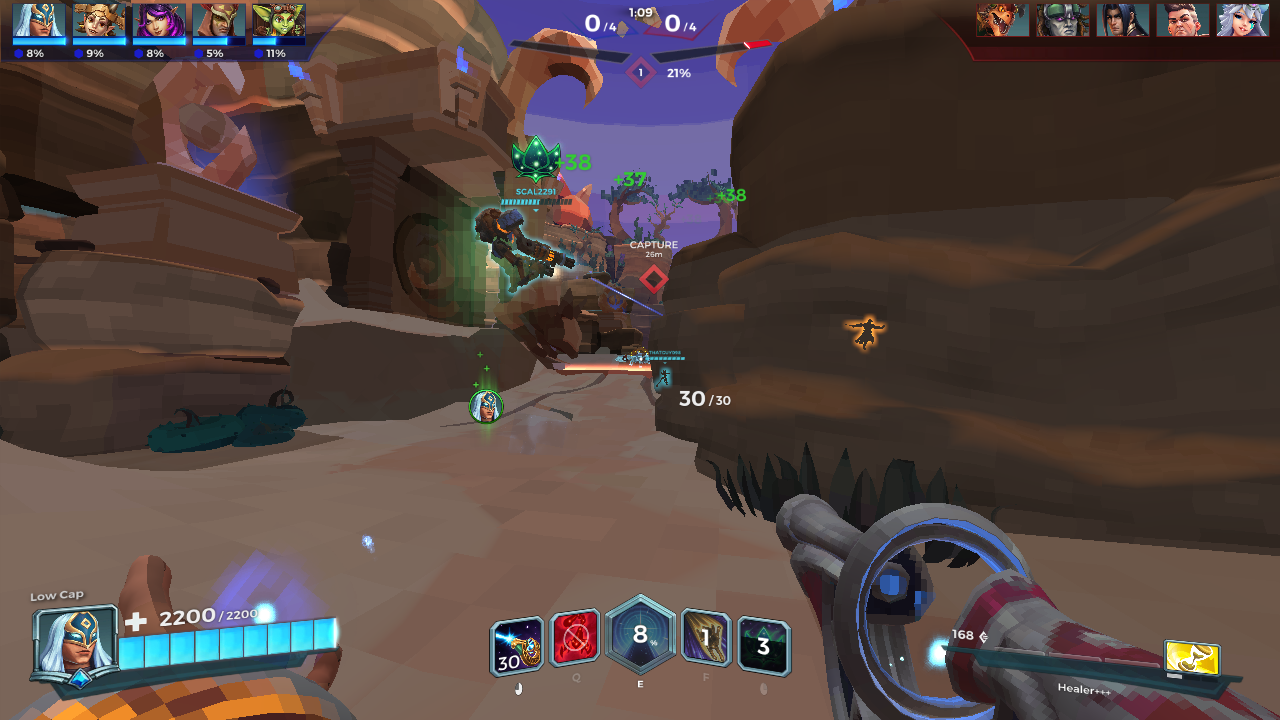model: (846, 310, 882, 353)
